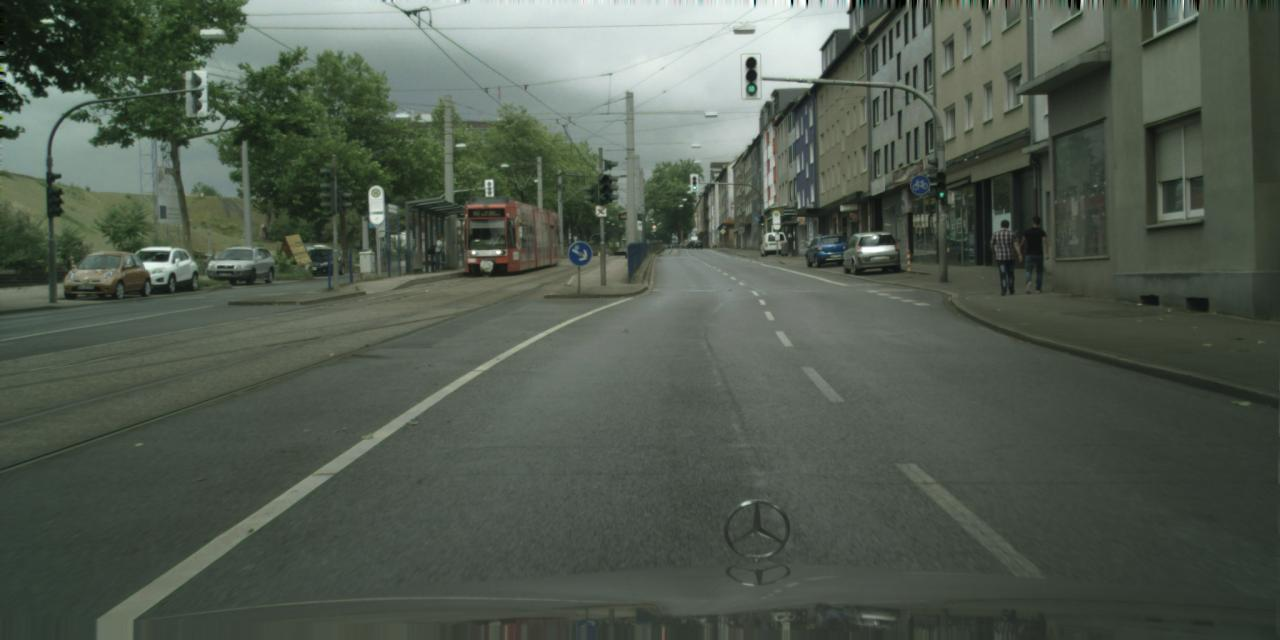ped: (1018, 215, 1050, 294), (990, 218, 1021, 296), (432, 235, 446, 271)
